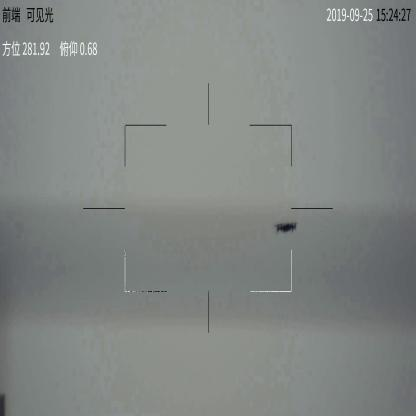uav: (276, 221, 296, 236)
